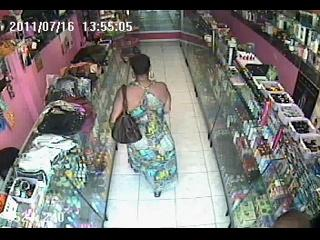Normal: (110, 54, 178, 197), (111, 85, 142, 144)
